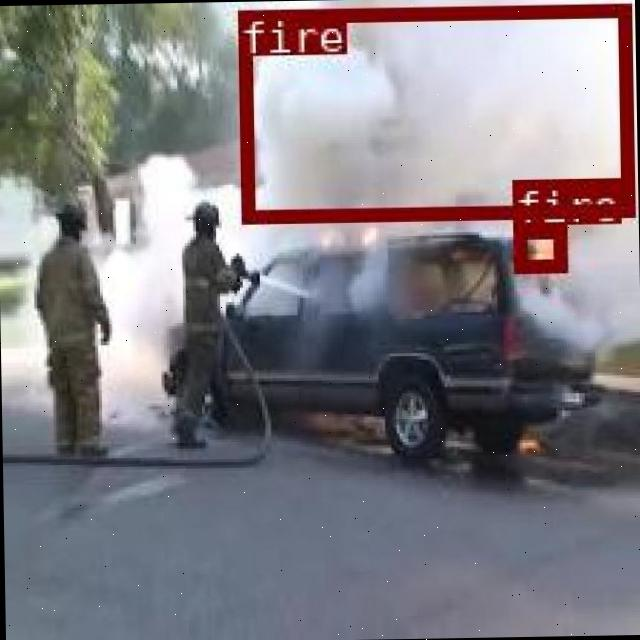fire: (236, 2, 632, 220), (511, 222, 563, 270)
